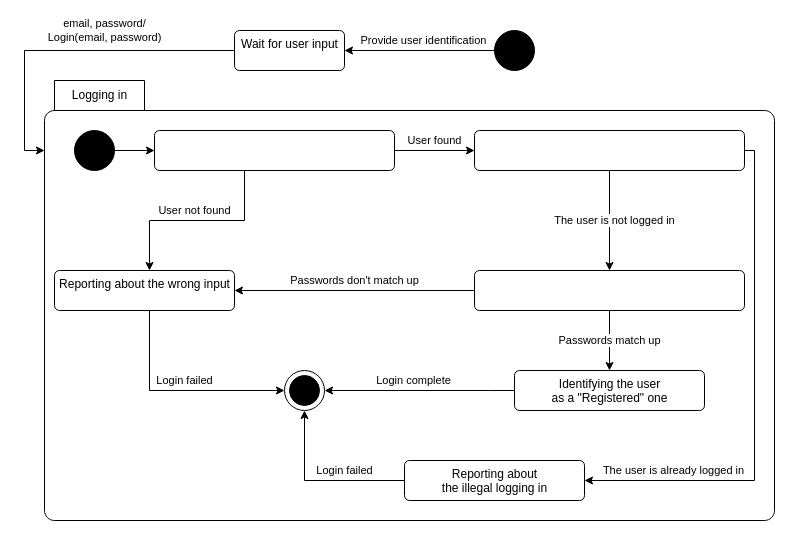
This 792x538 diagram has some shape labels left out. The box of each missing label's shape, as (x1, y1, x2, y2) in pixels:
Checking if the user is already logged in: (474, 130, 744, 170)
Comparing the given password with the matching user's password: (474, 270, 744, 310)
Searching for a user with a matching email: (154, 130, 394, 170)
